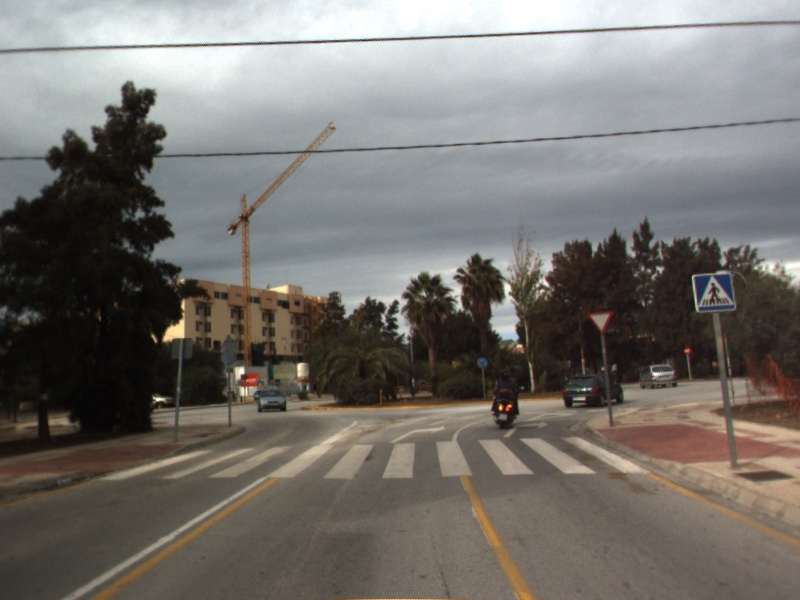RIGHT: (387, 423, 448, 445), (501, 419, 550, 439)
